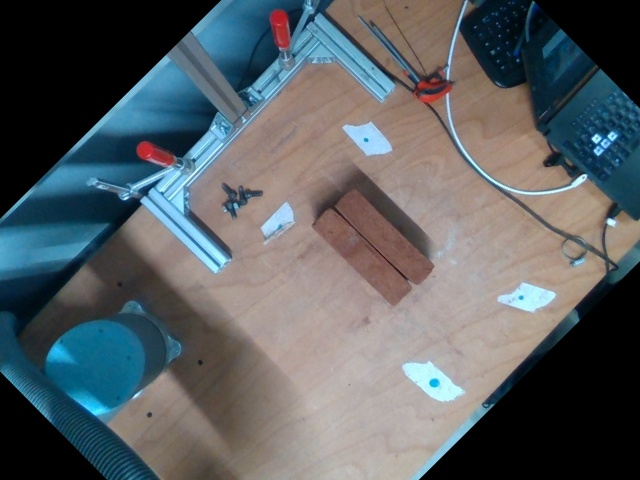brick-side: (336, 188, 434, 287), (312, 207, 410, 305)
